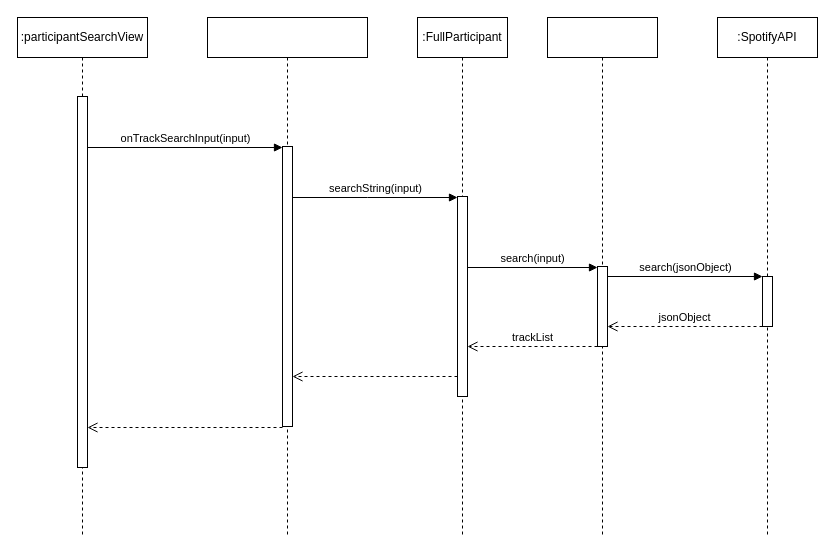
This 835x555 diagram has some shape labels left out. The box of each missing label's shape, as (x1, y1, x2, y2) in pixels:
:participantSearchViewModel: (206, 16, 368, 538)
:SpotifyConnector: (546, 16, 658, 538)
